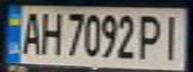0: (81, 10, 103, 57)
2: (115, 11, 139, 61)
7: (63, 9, 84, 56)
9: (100, 11, 121, 60)
A: (15, 9, 45, 55)
H: (36, 8, 63, 56)
I: (157, 11, 187, 61)
P: (136, 11, 166, 61)
